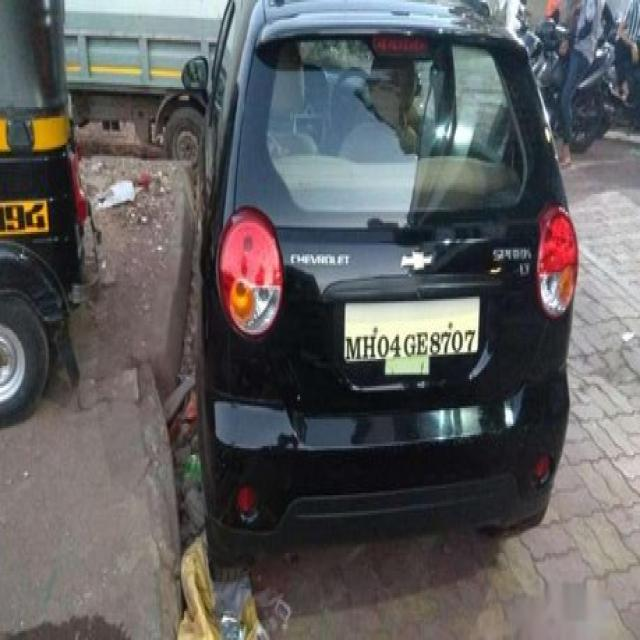number_plate: (338, 292, 489, 378)
